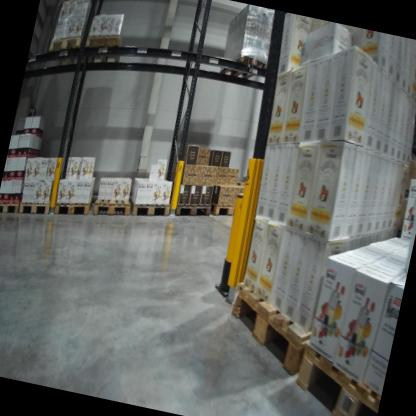pallet: (214, 256, 342, 398), (288, 340, 386, 416), (79, 23, 127, 81), (43, 24, 88, 76), (217, 49, 270, 87), (86, 185, 135, 222), (127, 186, 173, 222), (53, 182, 94, 219), (171, 192, 214, 225), (16, 191, 53, 220), (209, 196, 242, 220), (58, 0, 94, 18), (0, 199, 20, 221)
